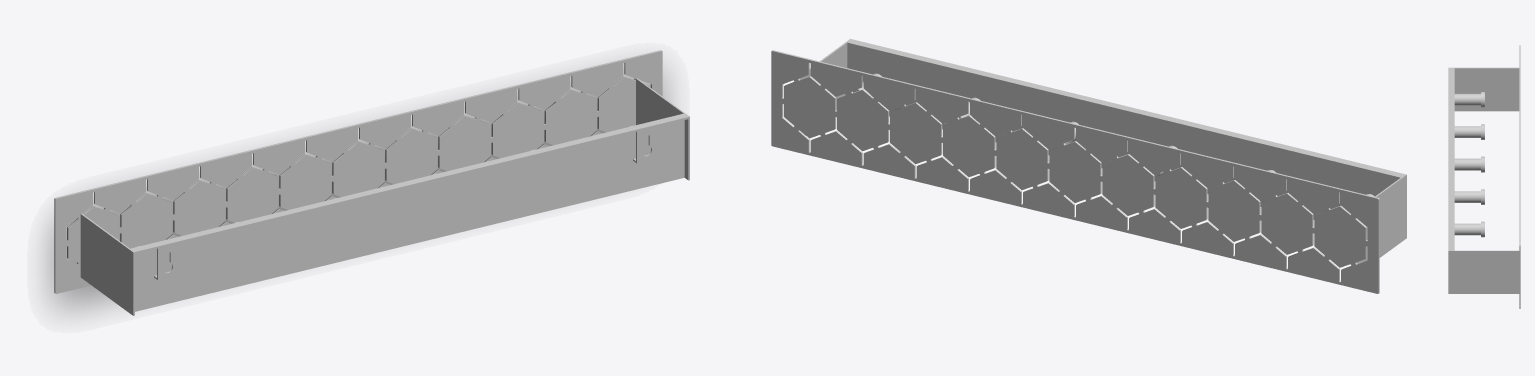
Rendered from bee-hook.434bb4d716.ar.glb.
3 renders of one model, left to right at view 1: azimuth 30°, elevation 25°; view 2: azimuth 150°, elevation 25°; view 3: azimuth 270°, elevation 25°, orthographic. The views are drawn at different scales.
Visible parts, largest first — view 1: NAUO1, object 2; view 2: NAUO1; view 3: NAUO1.
Part boxes in pixels (x1,y1,x2,y2): NAUO1: [54, 50, 689, 315]; object 2: [46, 67, 669, 310]; NAUO1: [771, 39, 1406, 293]; NAUO1: [1448, 45, 1520, 308].
Bounding box in the file's own units: 0.68 × 0.17 × 0.092.
2 materials, 1 textured.
